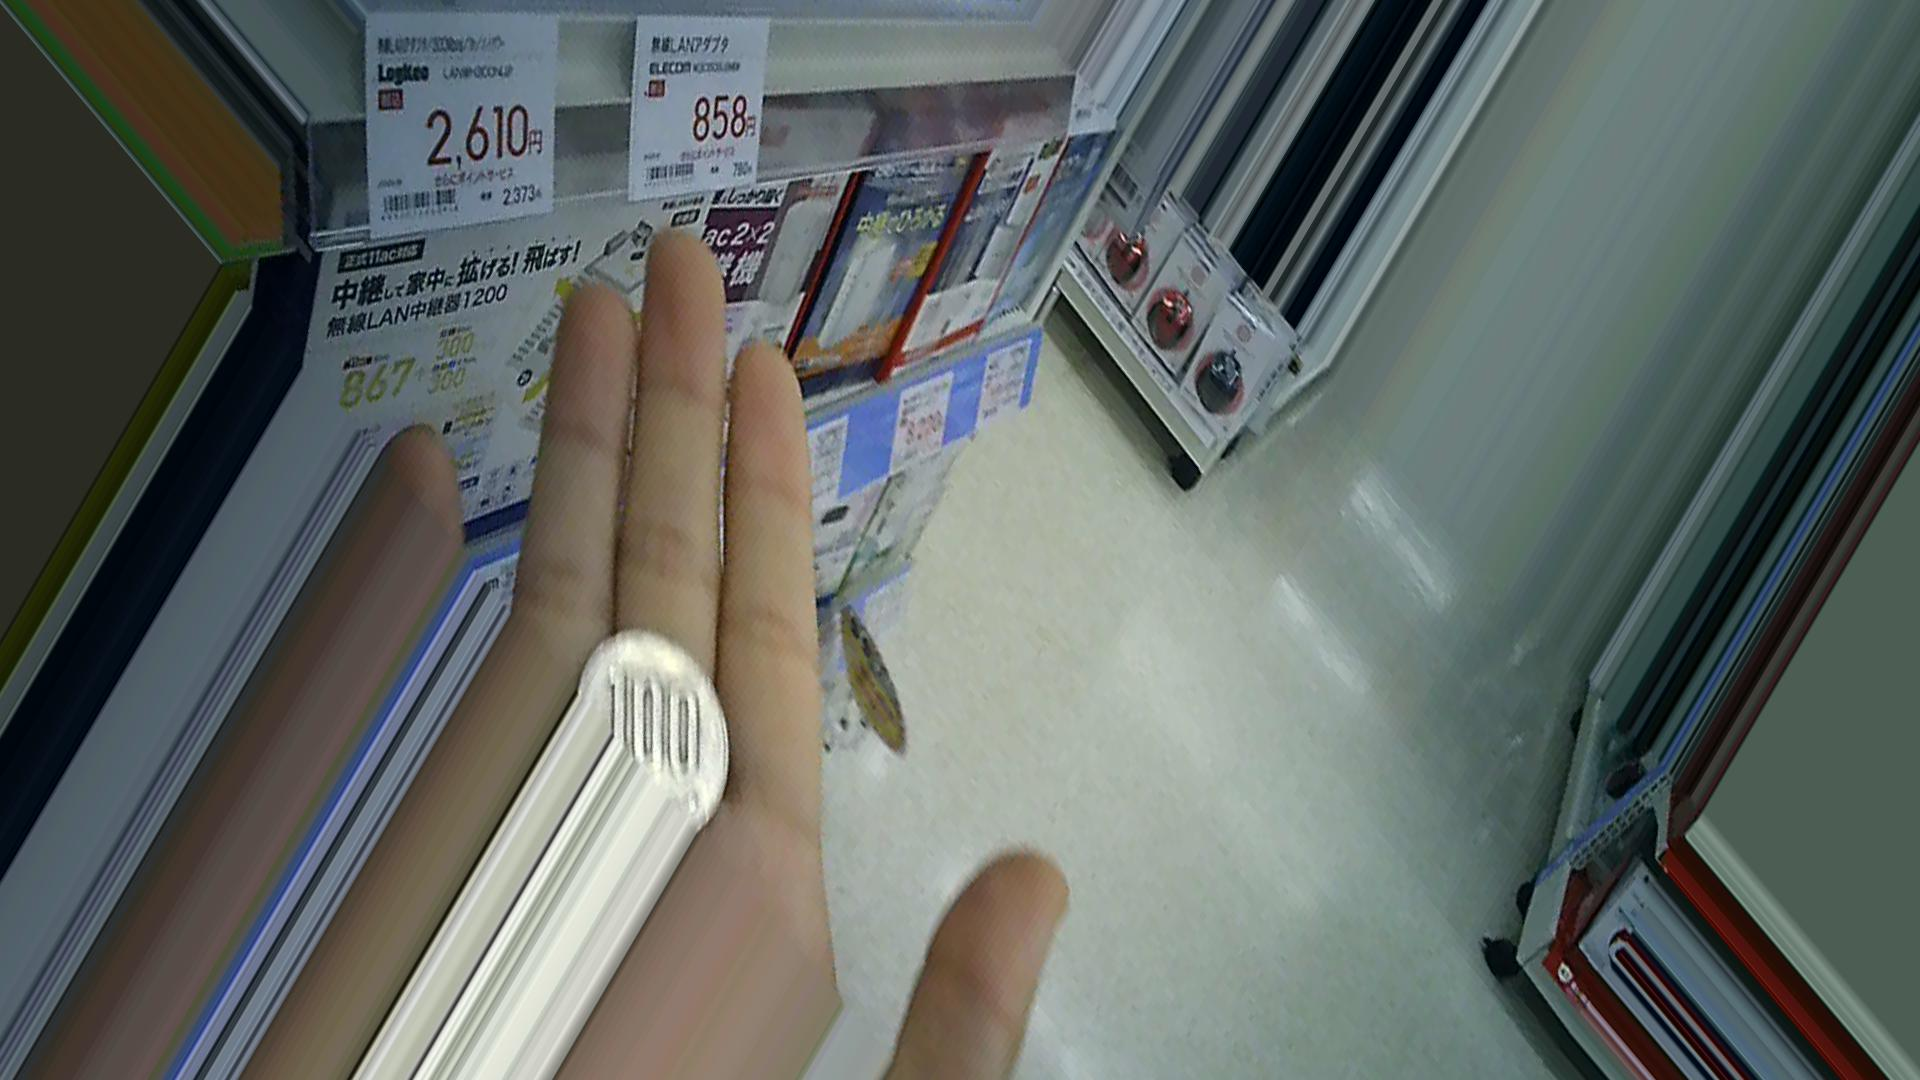100 Yen: (570, 621, 737, 843)
